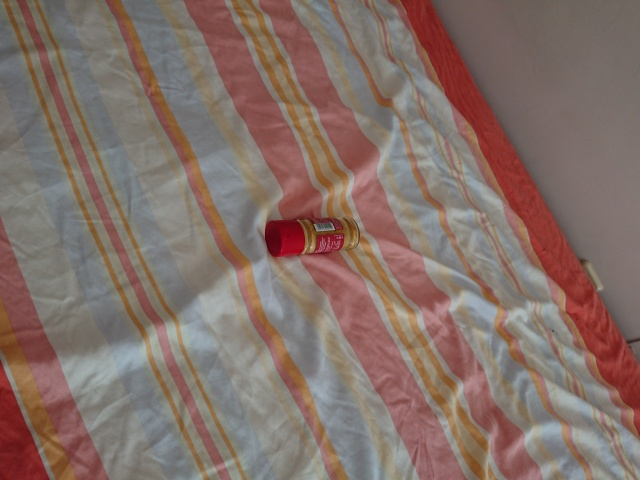Kotanyi Curry Spices Mix 70g: (263, 215, 362, 261)
